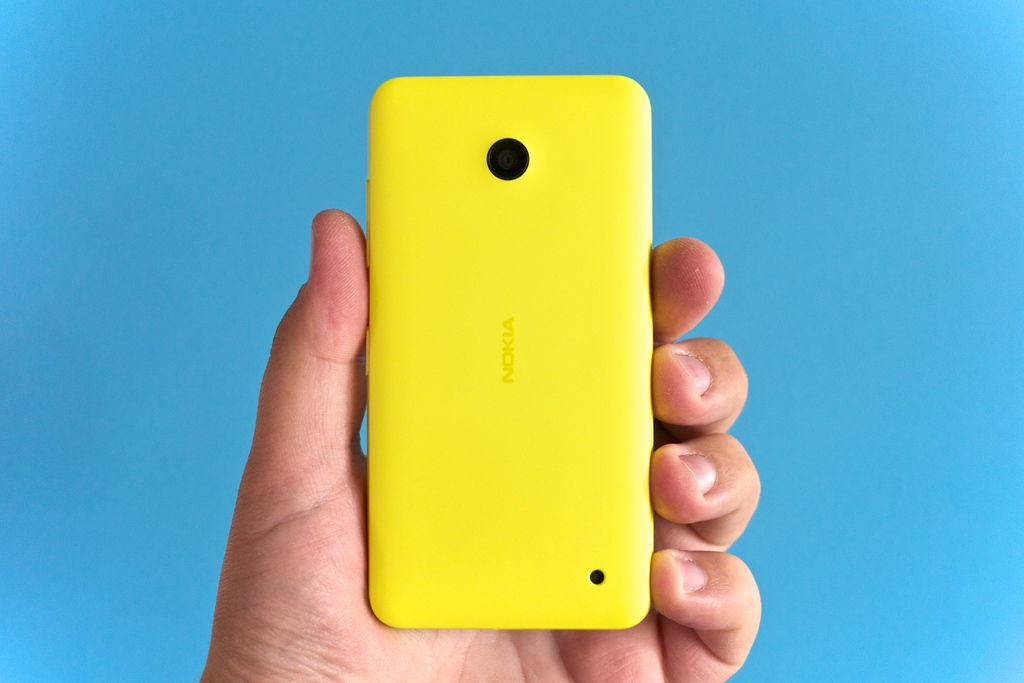Mobile-phone: (364, 74, 657, 634)
